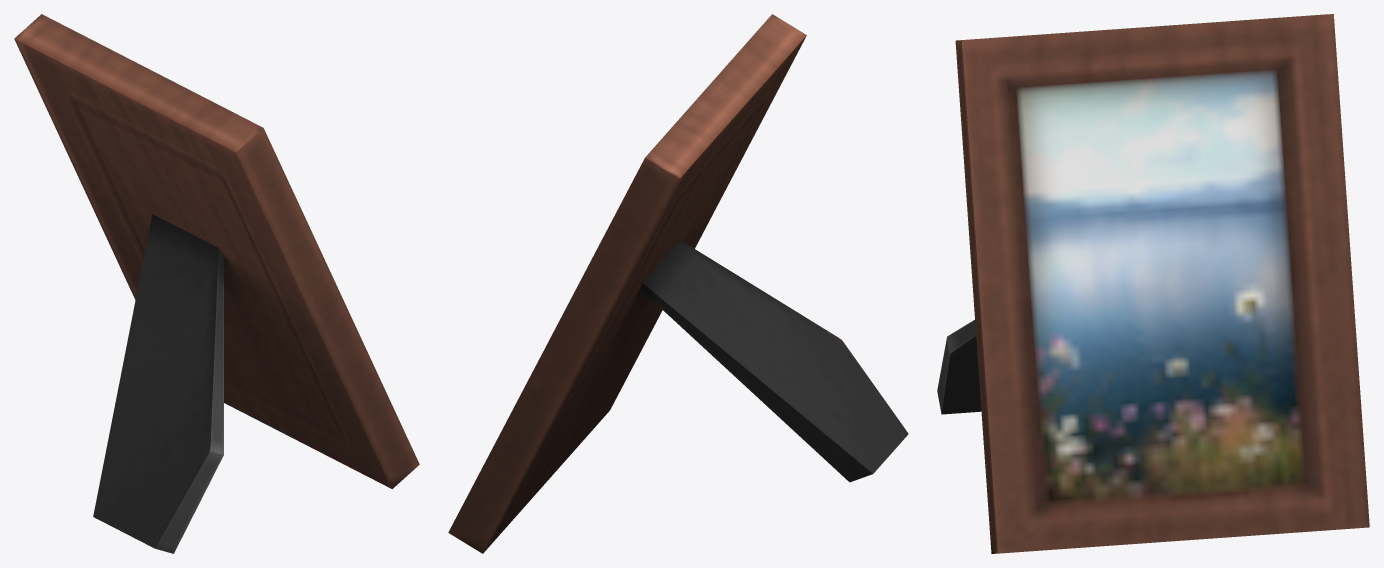
The model's file is ZhiBanShi_01_xiangkuang_01.FBX.
3 renders of one model, left to right at view 1: azimuth 30°, elevation 25°; view 2: azimuth 150°, elevation 25°; view 3: azimuth 270°, elevation 25°, orthographic. The views are drawn at different scales.
Visible parts, largest first — view 1: G_XianYiRenJia_01_xiangkuang_02; view 2: G_XianYiRenJia_01_xiangkuang_02; view 3: G_XianYiRenJia_01_xiangkuang_02.
Boxes of the visible parts, x1,y1,x2,y2 form: G_XianYiRenJia_01_xiangkuang_02: [14, 14, 419, 553]; G_XianYiRenJia_01_xiangkuang_02: [448, 14, 908, 553]; G_XianYiRenJia_01_xiangkuang_02: [937, 14, 1369, 553].
Size of the model in its own units: 69.76 by 88.29 by 78.9.
